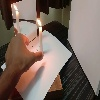fire: (37, 18, 42, 27)
